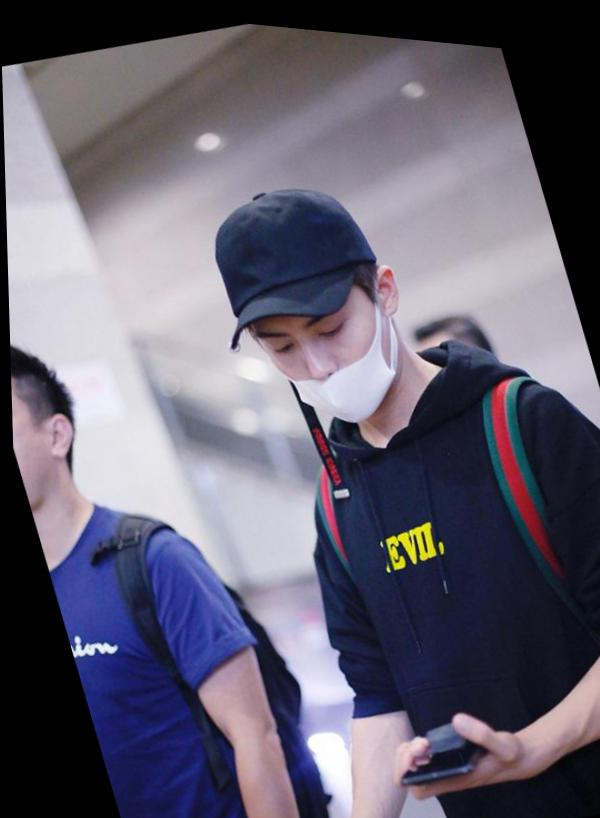WRONG: (251, 273, 401, 436)
